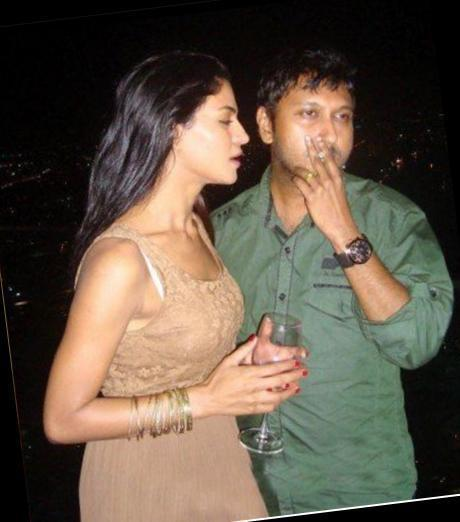Drunk: (266, 75, 357, 178), (187, 74, 249, 189)
